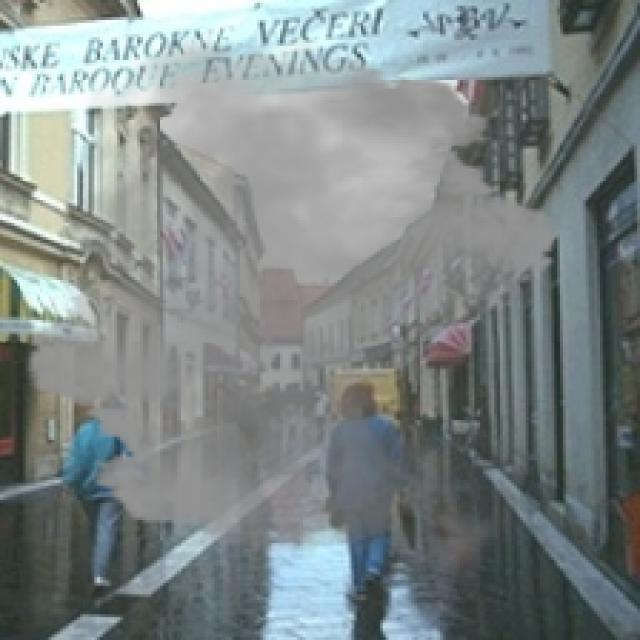Smoke: (8, 26, 574, 592)
